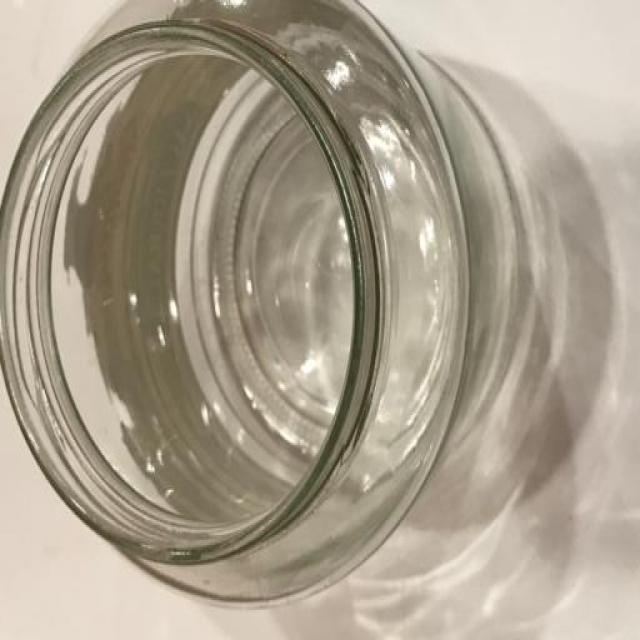glass: (1, 3, 544, 612)
